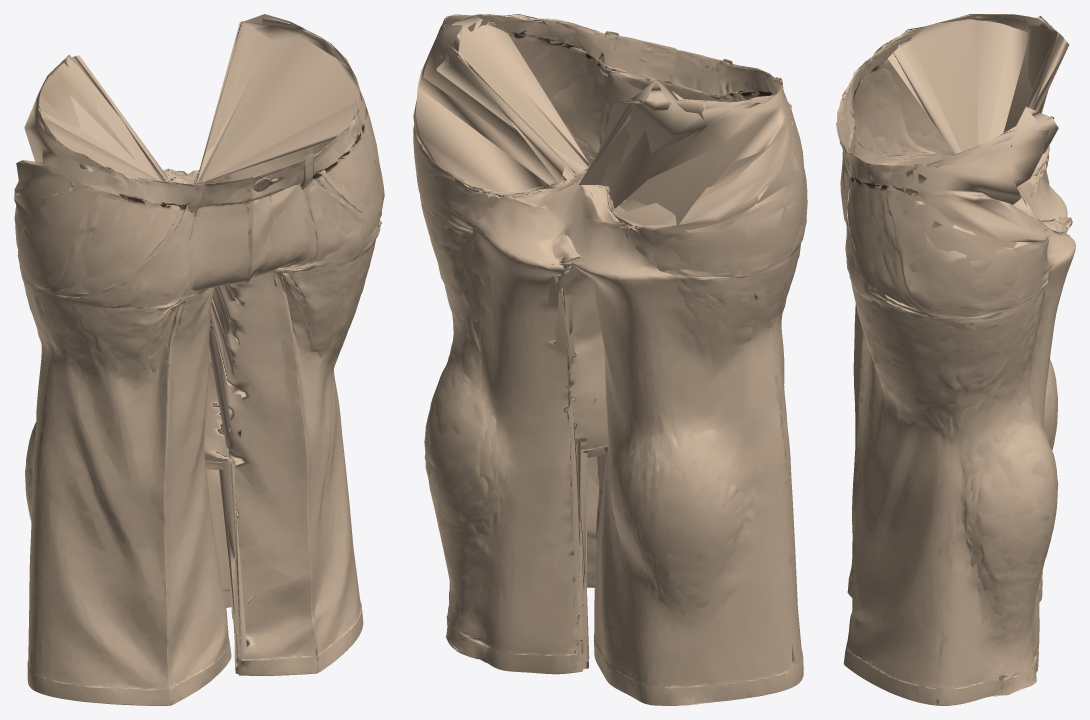
Rendered from bottom_f_wide.glb.
3 views of the same model, side by side, from view 1: azimuth 30°, elevation 25°; view 2: azimuth 150°, elevation 25°; view 3: azimuth 270°, elevation 25° (orthographic). The views are drawn at different scales.
Visible parts, largest first — view 1: f_wide; view 2: f_wide; view 3: f_wide.
Boxes of the visible parts, x1,y1,x2,y2 form: f_wide: (14, 14, 384, 705); f_wide: (413, 14, 807, 705); f_wide: (836, 14, 1075, 705).
Size of the model in its own units: 0.5101 by 0.8429 by 0.3137.
Materials: 1 (1 with a texture image).
